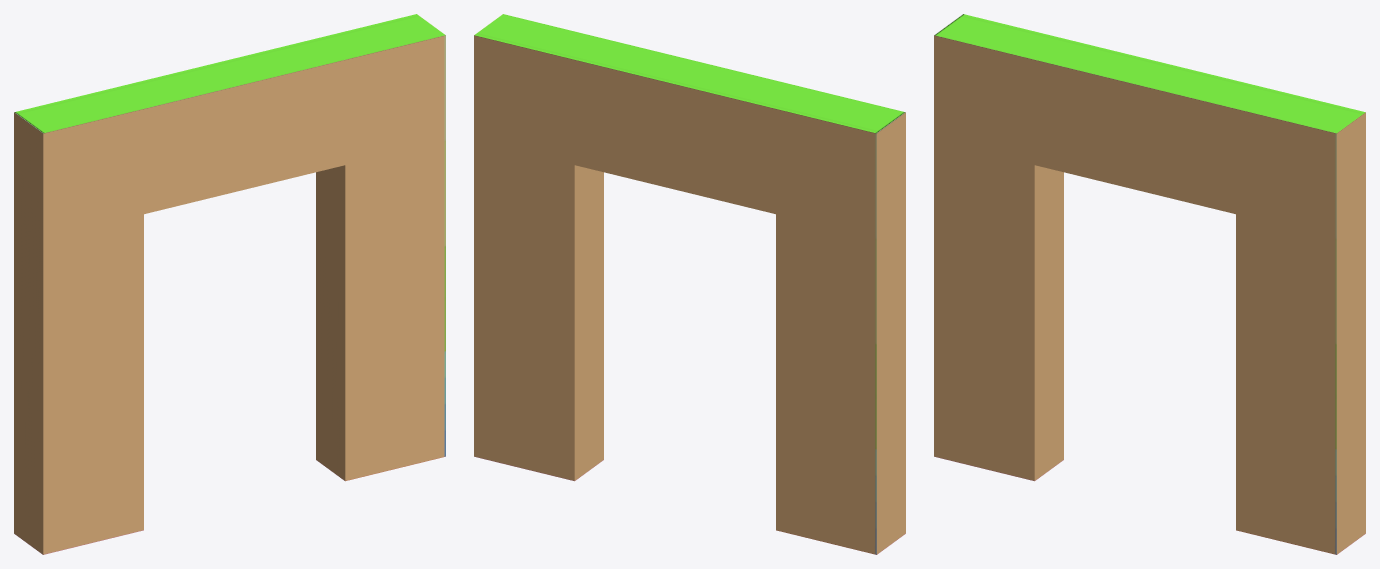
Rendered from MK_MK_Wall_Door_C.fbx.
The picture shows the model from 3 angles, left to right: view 1: azimuth 30°, elevation 25°; view 2: azimuth 150°, elevation 25°; view 3: azimuth 330°, elevation 25°; orthographic projection.
Visible parts, largest first — view 1: MK_Wall_Door_C; view 2: MK_Wall_Door_C; view 3: MK_Wall_Door_C.
Boxes of the visible parts, x1=… form: MK_Wall_Door_C: x1=14, y1=14, x2=445, y2=554; MK_Wall_Door_C: x1=474, y1=14, x2=905, y2=554; MK_Wall_Door_C: x1=934, y1=14, x2=1365, y2=554.
Size of the model in its own units: 180 by 180 by 22.5.
Materials: 1 (1 with a texture image).
